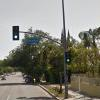Traffic light: (7, 20, 22, 44)
